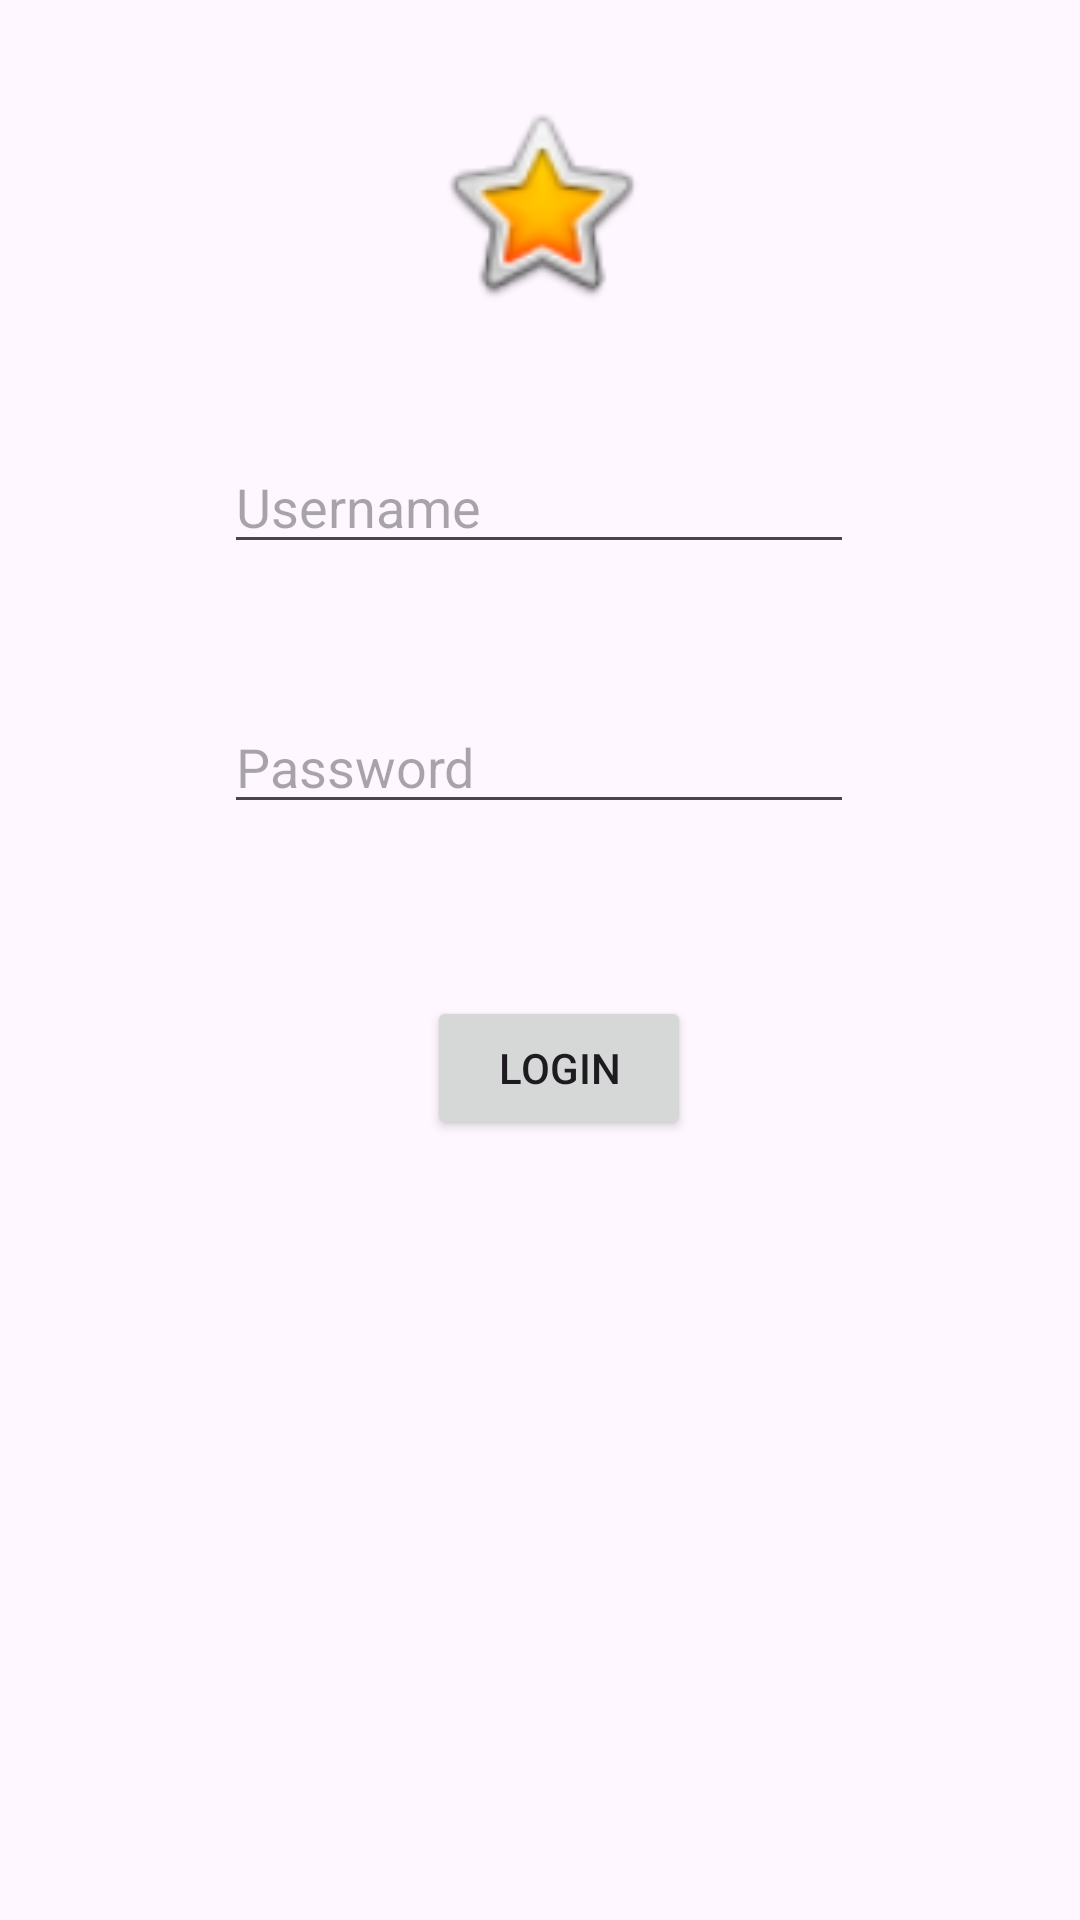

Where to tap for icons on this 1080px x 1920px app screen, as point (x, y):
star on: point (542, 205)
